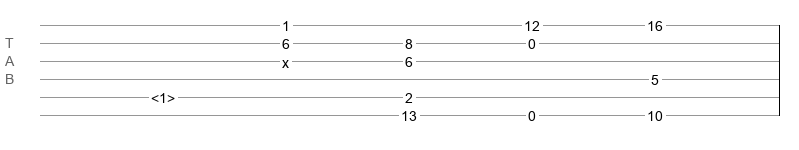0: (528, 108, 536, 118), (528, 36, 536, 46)
1: (282, 18, 290, 28)
10: (647, 108, 663, 118)
12: (524, 18, 540, 28)
13: (401, 108, 417, 118)
16: (647, 18, 663, 28)
2: (405, 90, 413, 100)
5: (651, 72, 659, 82)
6: (282, 36, 290, 46), (405, 54, 413, 64)
8: (405, 36, 413, 46)
harmonic: (151, 90, 175, 100)
x: (282, 55, 289, 63)
